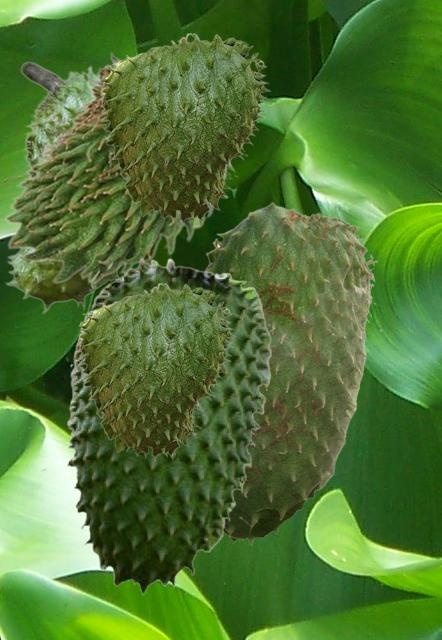guyabano: (66, 257, 271, 594), (204, 201, 376, 544), (3, 51, 228, 283), (100, 32, 270, 226), (4, 61, 123, 313), (78, 282, 235, 461)
